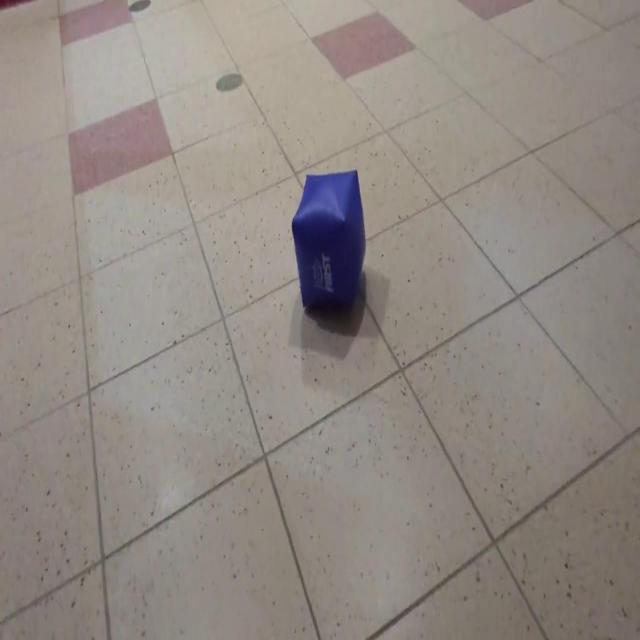frc_cube: (292, 168, 366, 321)
